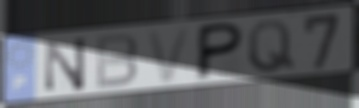7: (302, 11, 344, 71)
B: (94, 32, 140, 92)
N: (43, 35, 89, 93)
P: (192, 20, 247, 83)
Q: (245, 18, 298, 75)
V: (144, 25, 194, 86)
